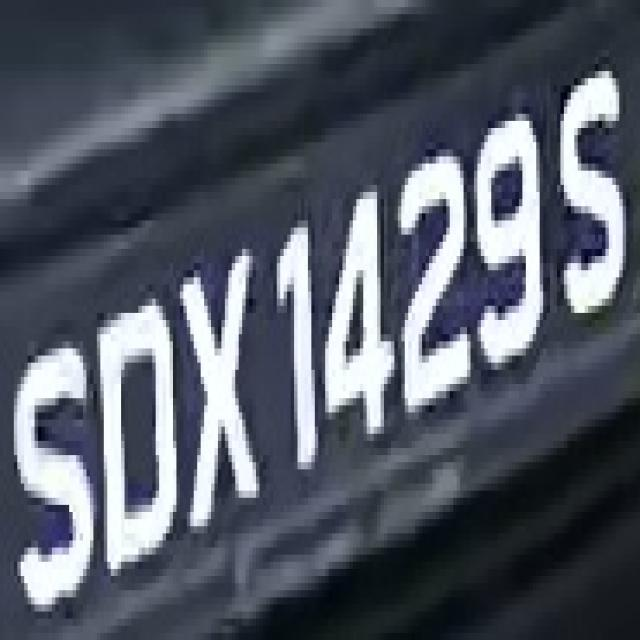1: (270, 178, 325, 490)
2: (387, 142, 474, 434)
4: (315, 157, 394, 490)
9: (460, 107, 554, 384)
D: (90, 270, 187, 583)
S: (543, 43, 637, 327), (14, 313, 97, 611)
X: (173, 242, 273, 554)
